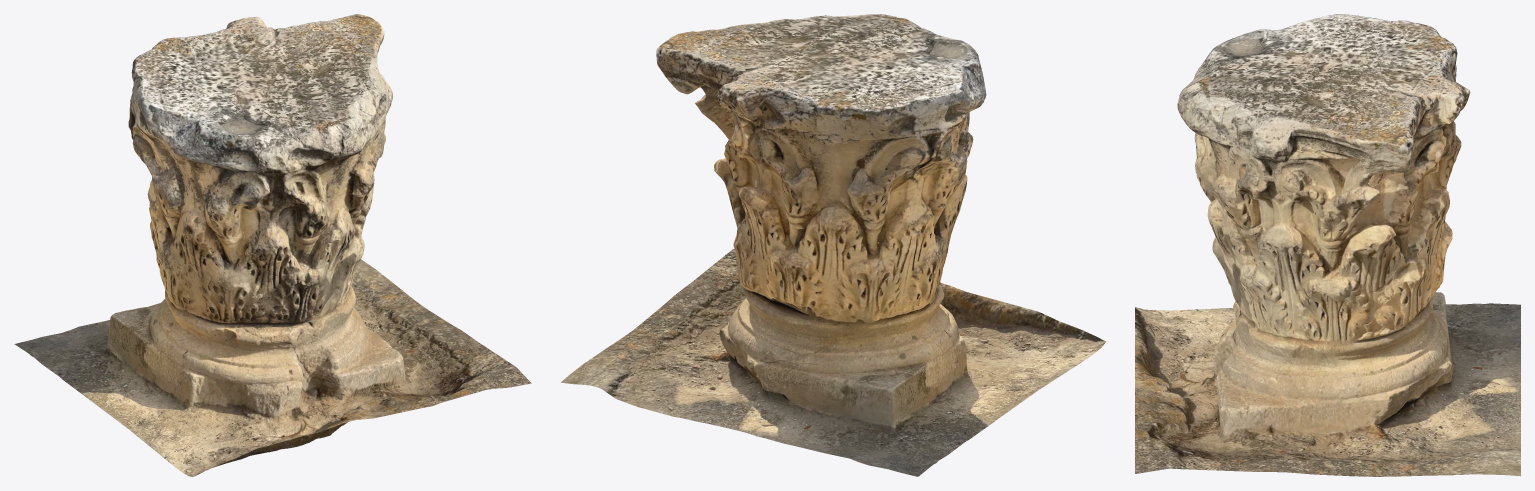
The model's file is corinthian-capital-byrsa-hill-carthage.glb.
3 renders of one model, left to right at view 1: azimuth 30°, elevation 25°; view 2: azimuth 150°, elevation 25°; view 3: azimuth 270°, elevation 25°, orthographic. The views are drawn at different scales.
Parts seen in each view (by area): view 1: Object_2; view 2: Object_2; view 3: Object_2.
Part boxes in pixels (x1,y1,x2,y2): Object_2: [14, 14, 531, 476]; Object_2: [561, 14, 1106, 476]; Object_2: [1135, 14, 1520, 476].
Bounding box in the file's own units: 1.13 × 0.9845 × 1.03.
Materials: 1 (1 with a texture image).
